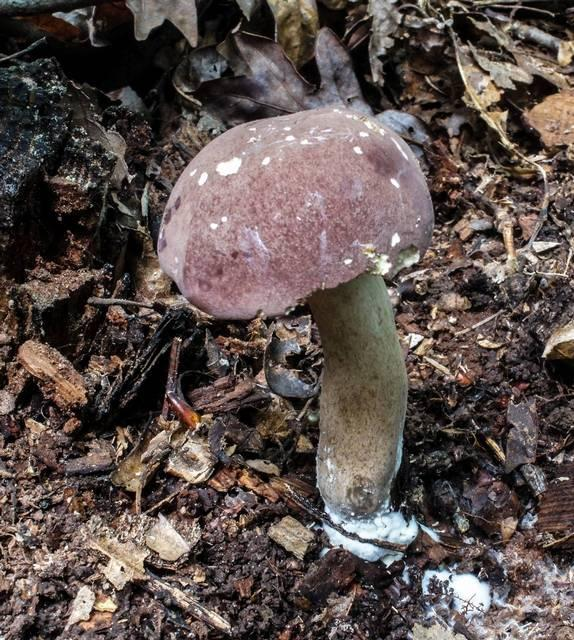Non-edible Mushroom: (155, 105, 436, 564)
